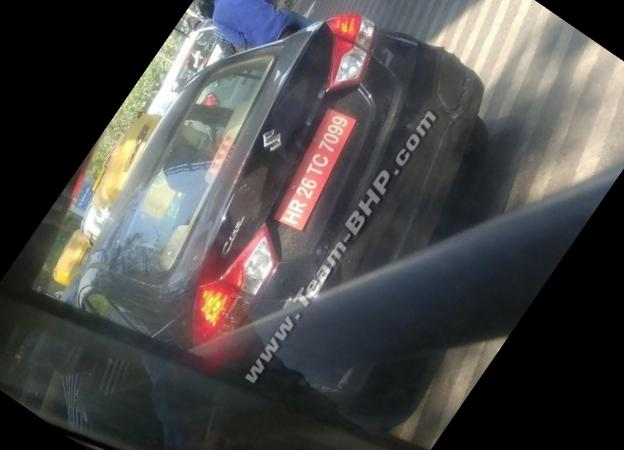plate: (256, 98, 377, 246)
